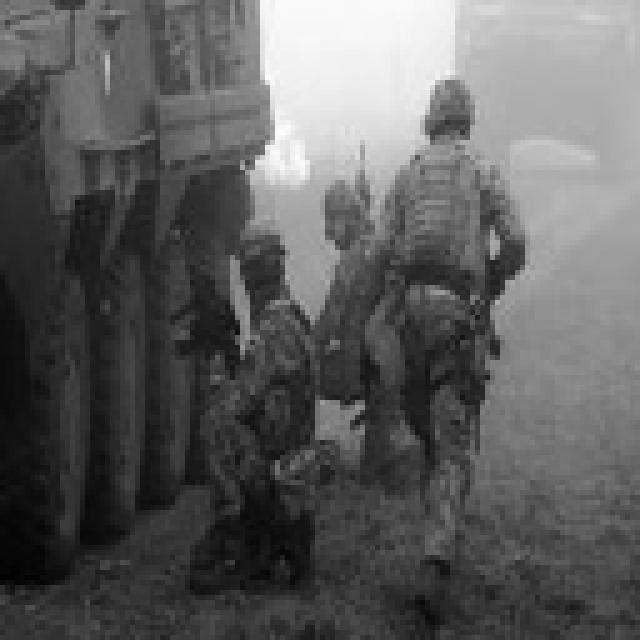Rifle: (183, 452, 365, 605), (406, 255, 540, 448), (169, 243, 264, 411), (328, 122, 391, 250)
